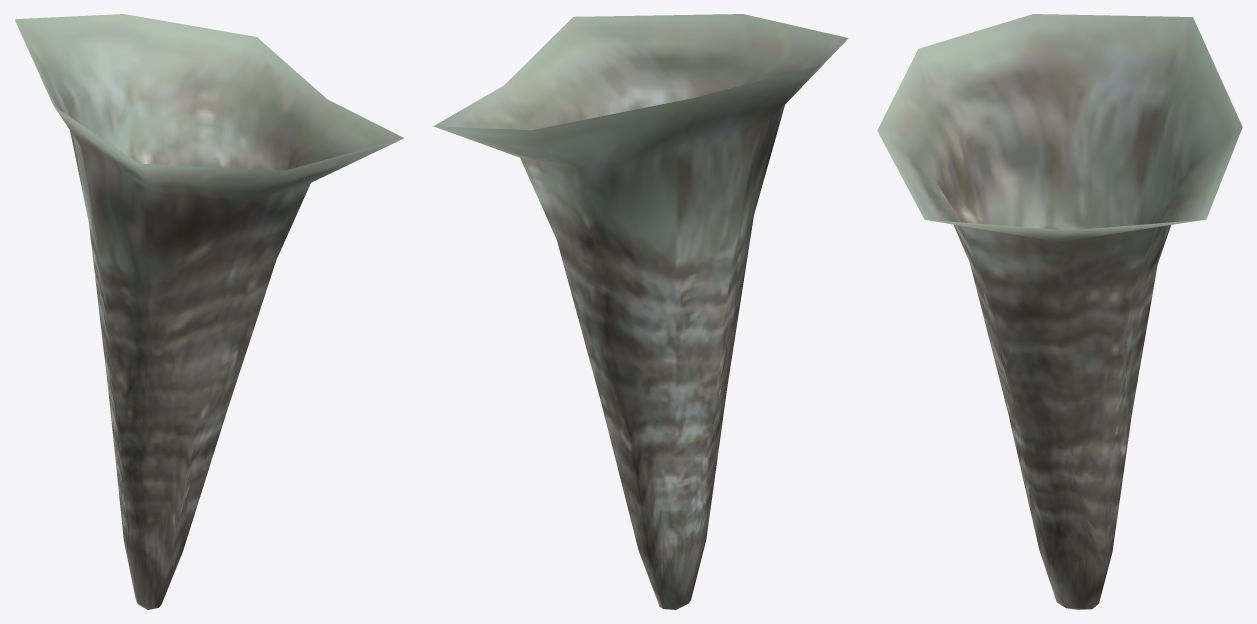
The model's file is TROLLHOLE02_PS-SECRETSTALAG15.fbx.
3 views of the same model, side by side, from view 1: azimuth 30°, elevation 25°; view 2: azimuth 150°, elevation 25°; view 3: azimuth 270°, elevation 25° (orthographic). The views are drawn at different scales.
Visible parts, largest first — view 1: TROLLHOLE02_PS-SECRETSTALAG15; view 2: TROLLHOLE02_PS-SECRETSTALAG15; view 3: TROLLHOLE02_PS-SECRETSTALAG15.
Boxes of the visible parts, x1=… form: TROLLHOLE02_PS-SECRETSTALAG15: x1=14, y1=14, x2=403, y2=609; TROLLHOLE02_PS-SECRETSTALAG15: x1=433, y1=14, x2=848, y2=609; TROLLHOLE02_PS-SECRETSTALAG15: x1=877, y1=14, x2=1242, y2=609.
Size of the model in its own units: 21056 by 38334 by 22823.
Materials: 1 (1 with a texture image).
